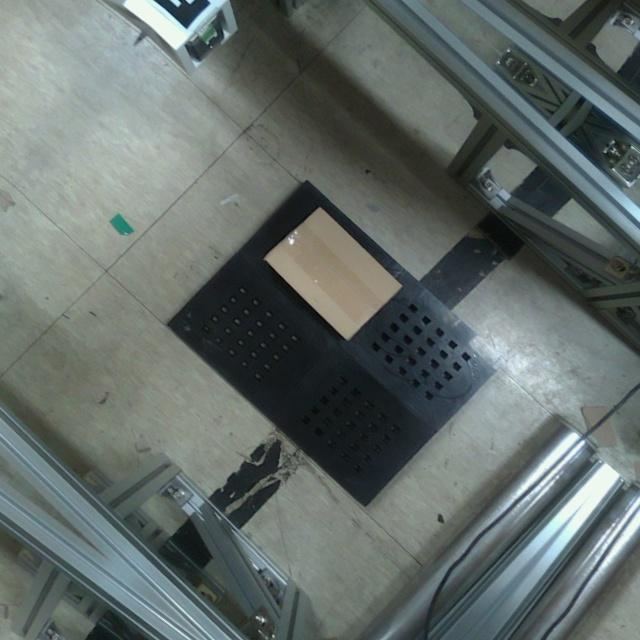box: (254, 195, 415, 352)
pallet: (151, 164, 517, 522)
